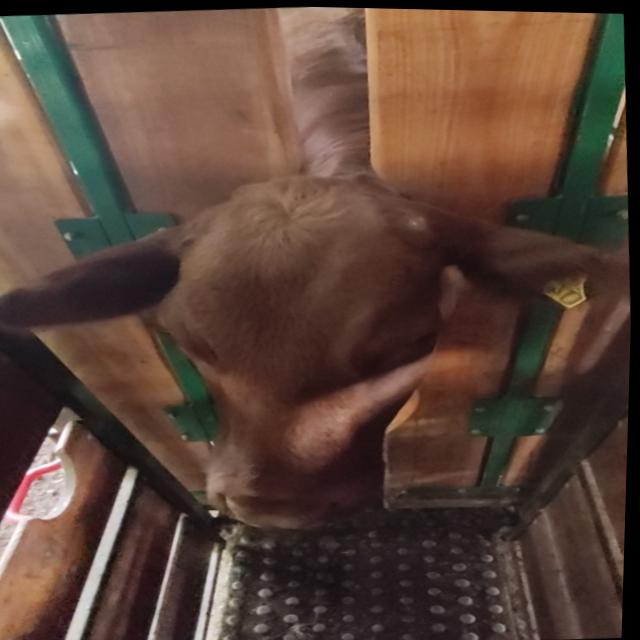cowFace: (139, 170, 461, 536)
